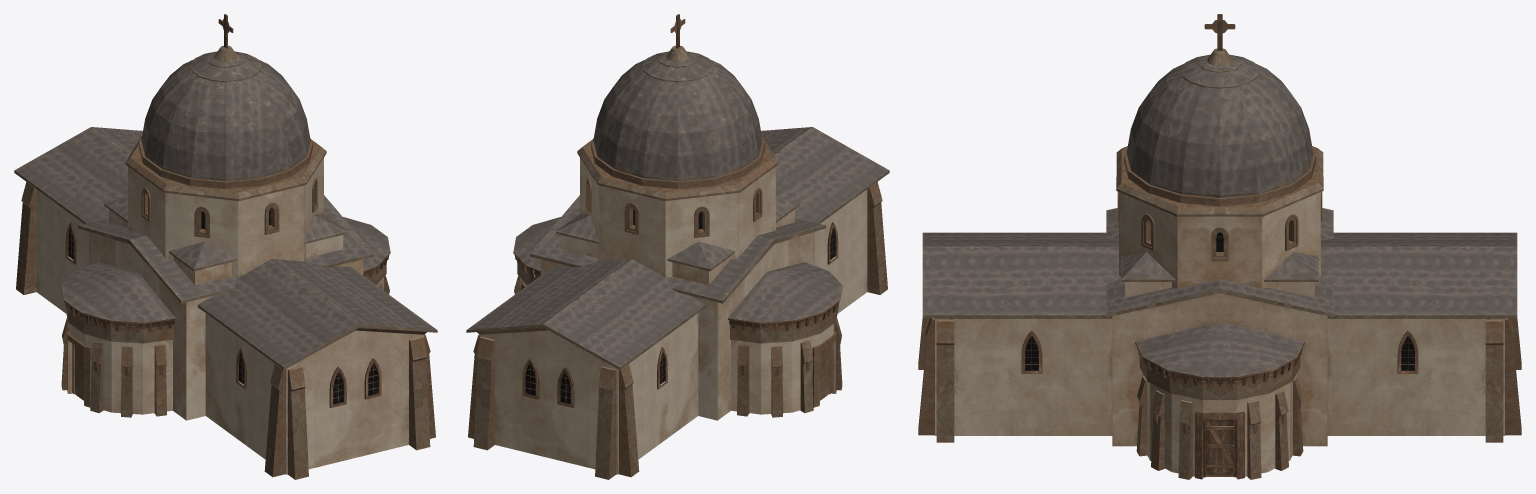
Rendered from iglesis_mobile.glb.
3 views of the same model, side by side, from view 1: azimuth 30°, elevation 25°; view 2: azimuth 150°, elevation 25°; view 3: azimuth 270°, elevation 25° (orthographic). The views are drawn at different scales.
Parts seen in each view (by area): view 1: Church; view 2: Church; view 3: Church.
Boxes of the visible parts, <box> form: Church: <box>14,14,437,479</box>; Church: <box>466,14,889,479</box>; Church: <box>918,14,1521,479</box>.
Bounding box in the file's own units: 14.22 × 15.43 × 21.91.
Materials: 1 (1 with a texture image).
